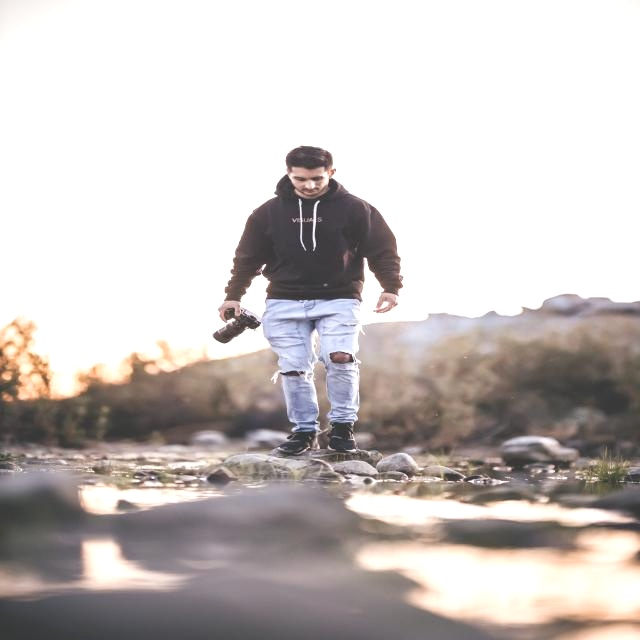ripped_pants: (265, 299, 362, 425)
